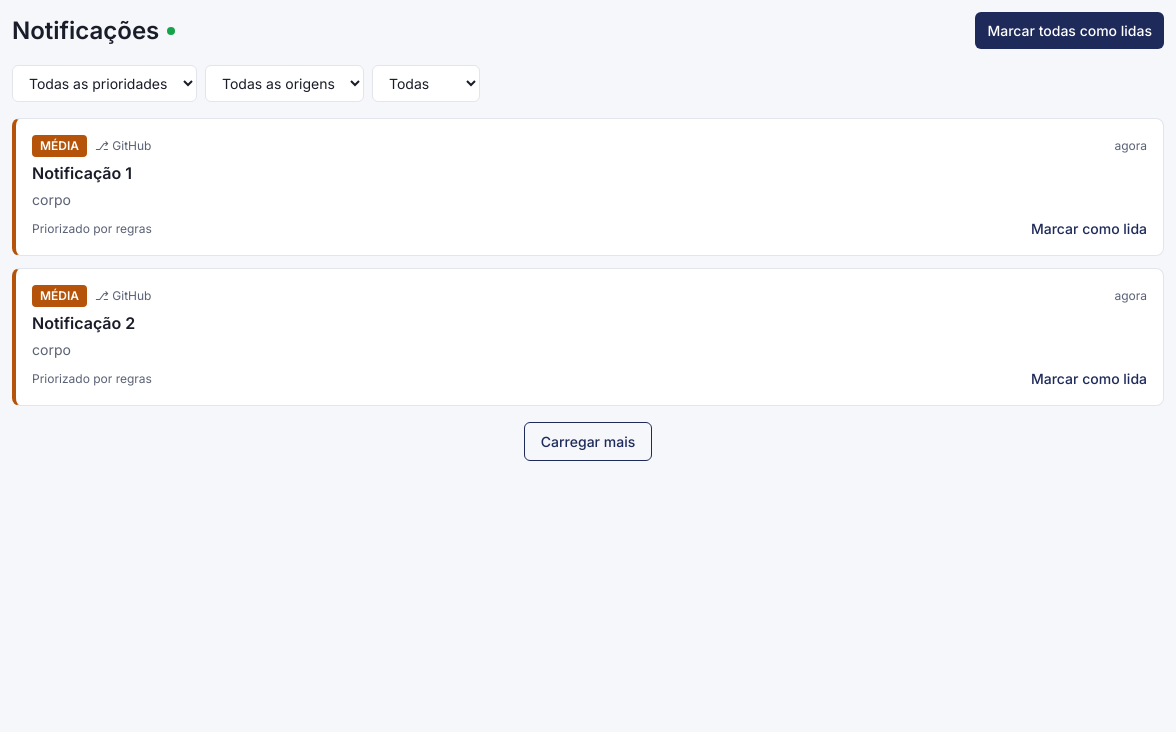
Scenario: NotificationsPage — paginação › carrega a página seguinte com o cursor e esconde o botão no fim
Expected: the heading "Notificação 1" is shown, [32,163,132,183]
Click the button "Carregar mais": click(588, 442) [524,422,652,461]
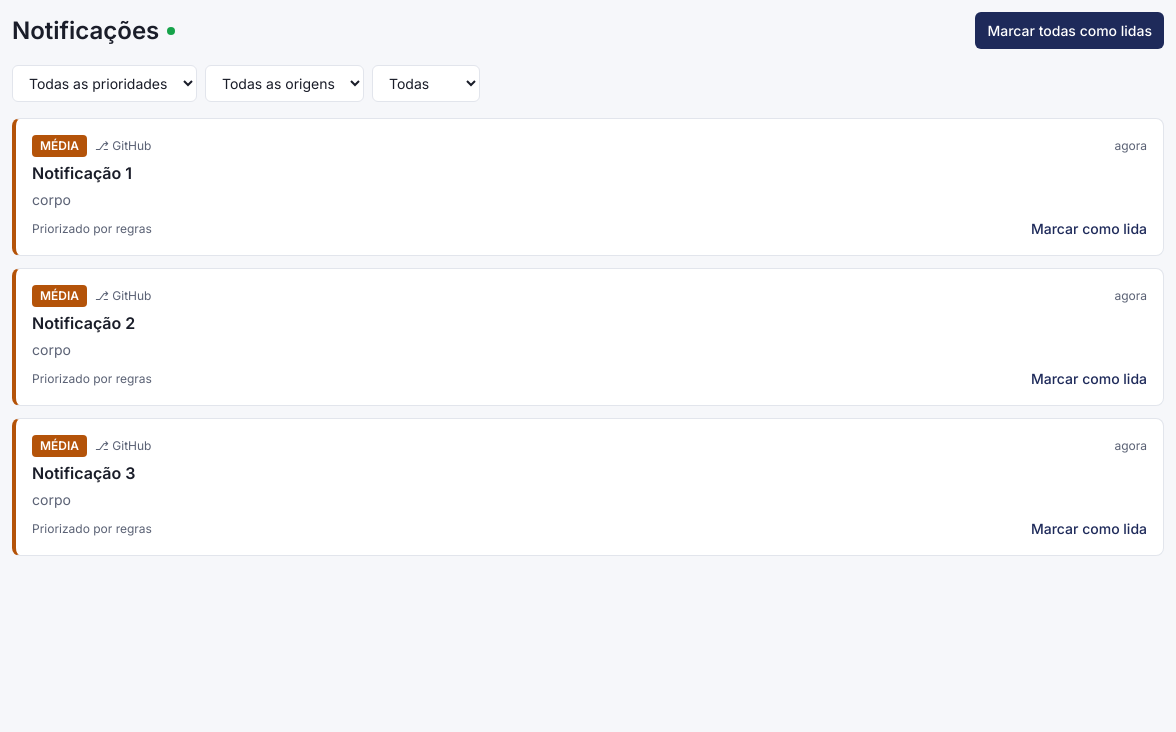
Expected: the heading "Notificação 3" is shown, [32,463,136,483]
Expected: the number of elements with test id "notification-card" is 3, [12,118,1164,256]; [12,268,1164,406]; [12,418,1164,556]
Expected: the button "Carregar mais" is gone
